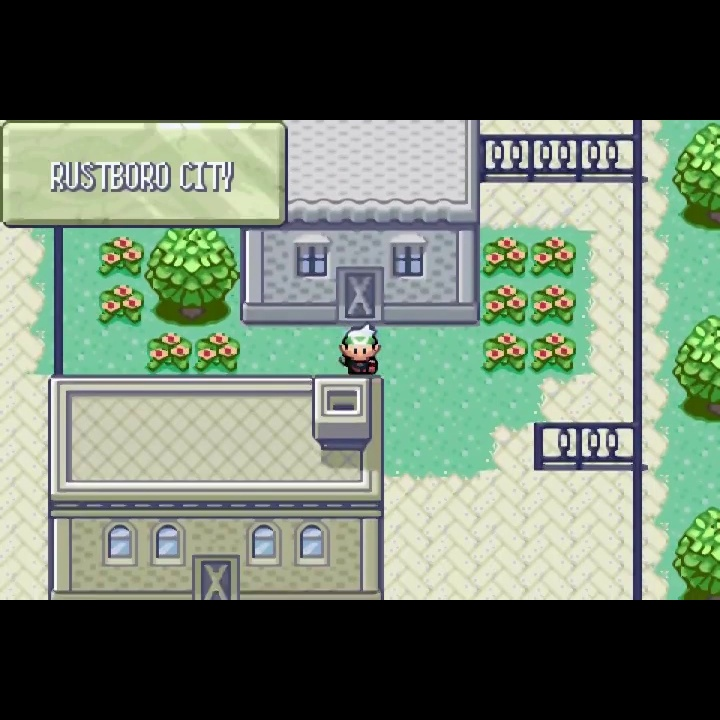house: (44, 373, 386, 600), (238, 120, 483, 326)
npc: (338, 322, 383, 374)
wall: (145, 227, 240, 326), (671, 122, 720, 230), (672, 315, 720, 424), (671, 502, 720, 599)
